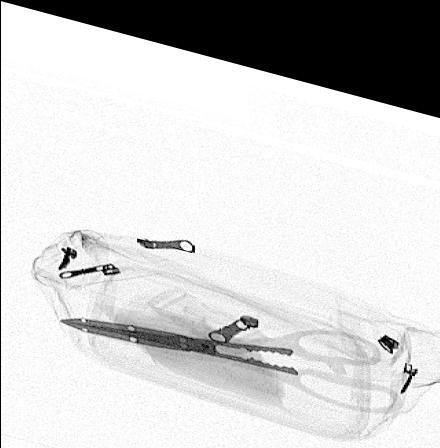Scissors: (52, 306, 406, 397)
